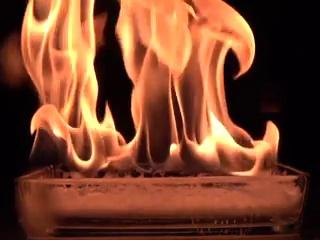Fire: (22, 1, 287, 181)
